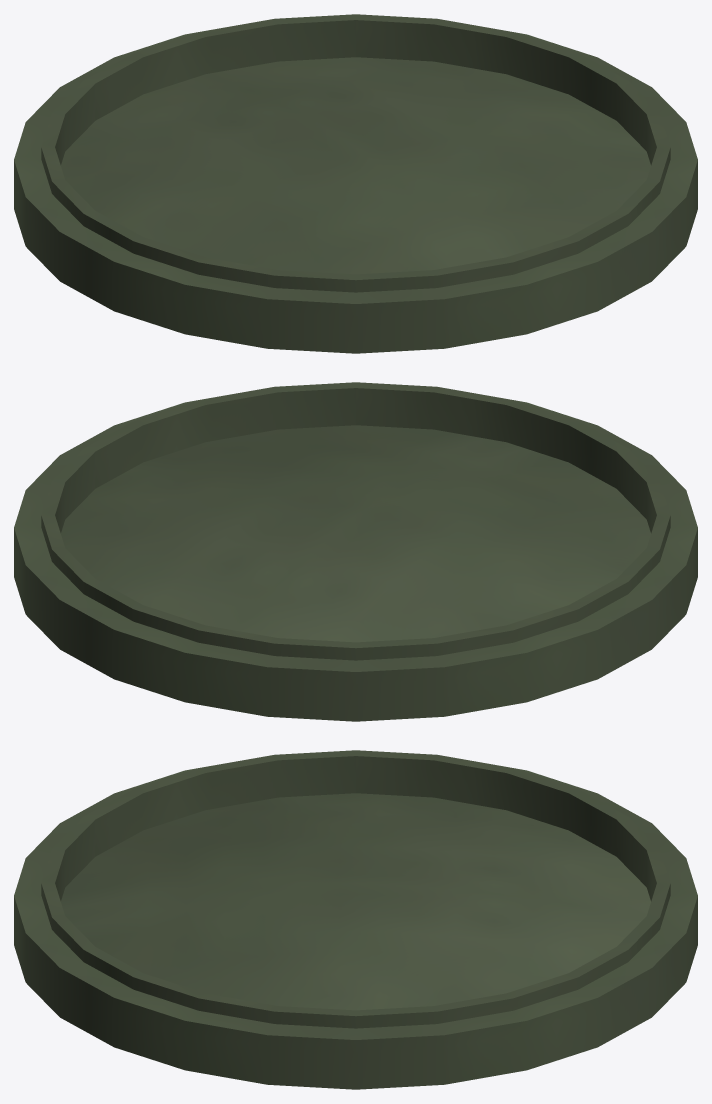
Rendered from voskhod parachute.obj.
The picture shows the model from 3 angles, top to bottom: view 1: azimuth 30°, elevation 25°; view 2: azimuth 150°, elevation 25°; view 3: azimuth 270°, elevation 25°; orthographic projection.
Visible parts, largest first — view 1: cap, 1; view 2: cap, 1; view 3: cap, 1.
Part boxes in pixels (<box>): cap: <box>61,57,650,274</box>; 1: <box>14,14,697,353</box>; cap: <box>61,425,650,642</box>; 1: <box>14,382,697,721</box>; cap: <box>61,793,650,1010</box>; 1: <box>14,750,697,1089</box>.
Size of the model in its own units: 0.625 by 0.0875 by 0.625.
